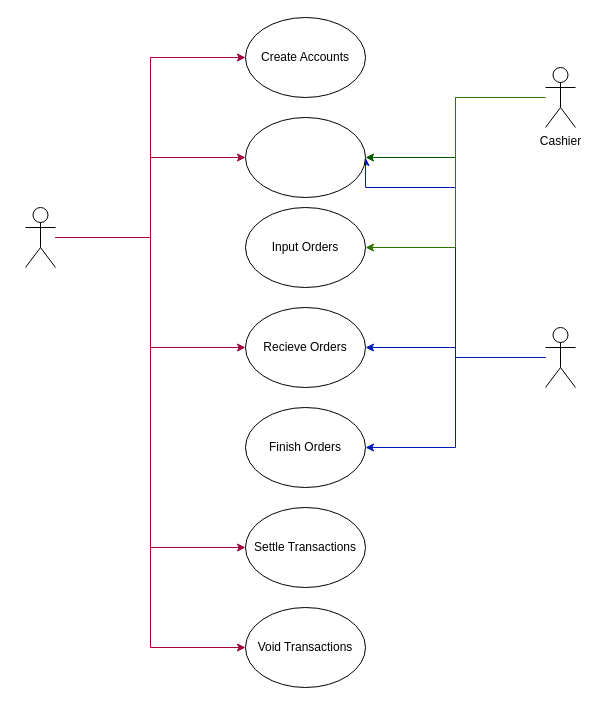
This 598x705 diagram has some shape labels left out. The centre of each missing label's shape, as x and y in pixels:
"Kitchen" belongs at pixel 560 357.
"Log In" belongs at pixel 305 157.
"Manager" belongs at pixel 40 237.
